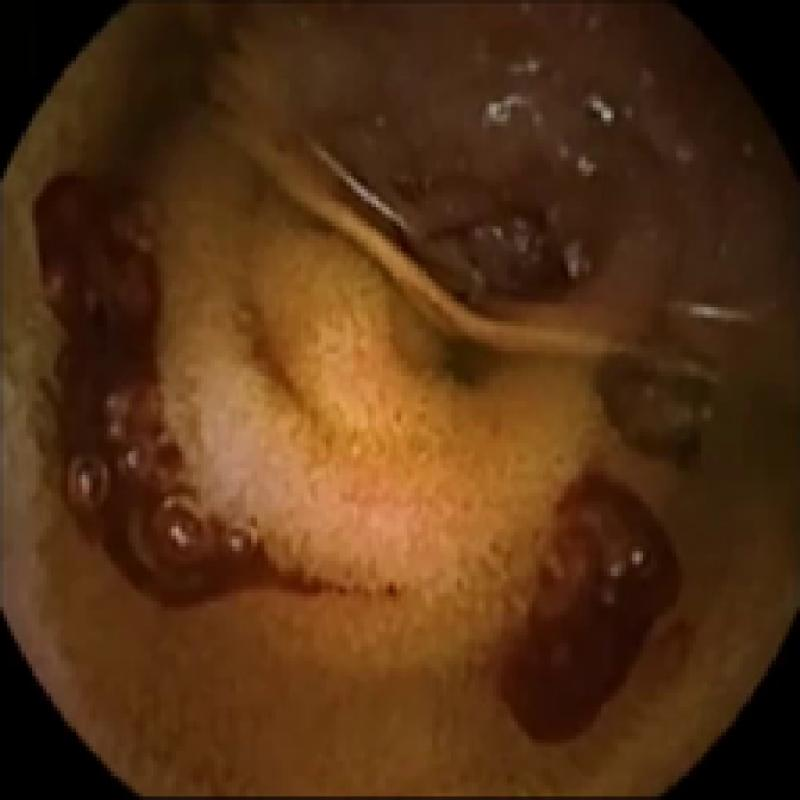bleeding: (32, 168, 325, 593), (493, 454, 672, 738)
